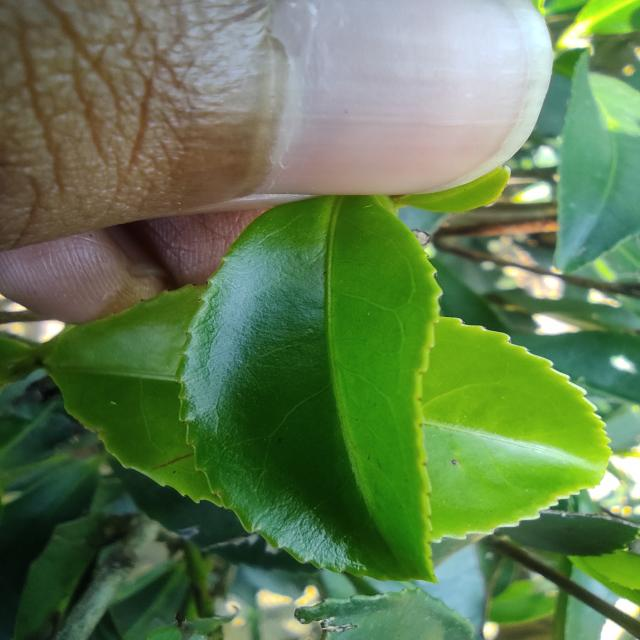Category C(4-7 days): (175, 166, 469, 583)
